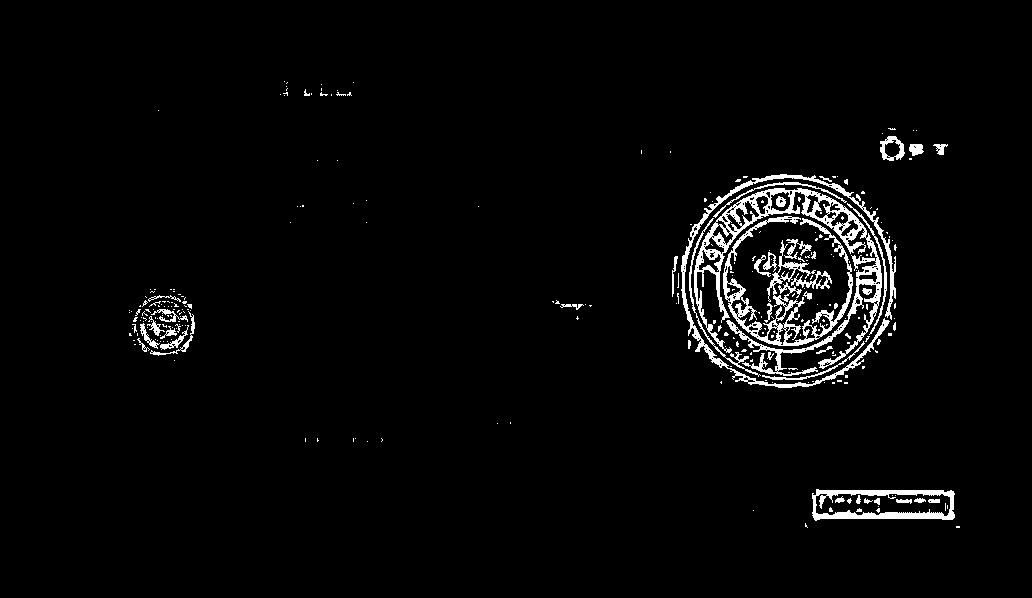Round chop: (679, 175, 897, 397), (134, 295, 195, 359)
